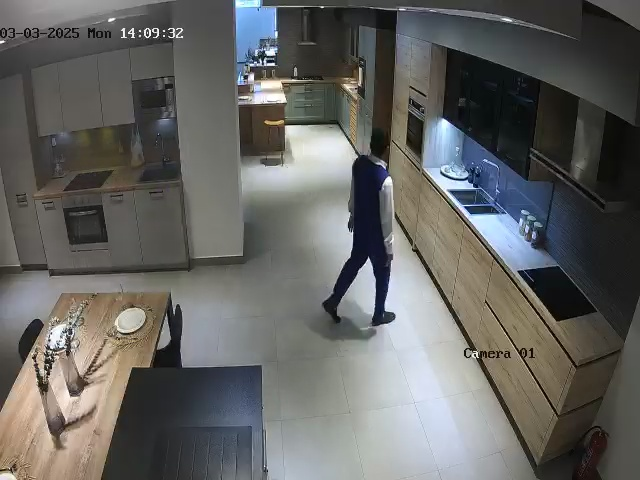employee: (321, 128, 396, 327)
